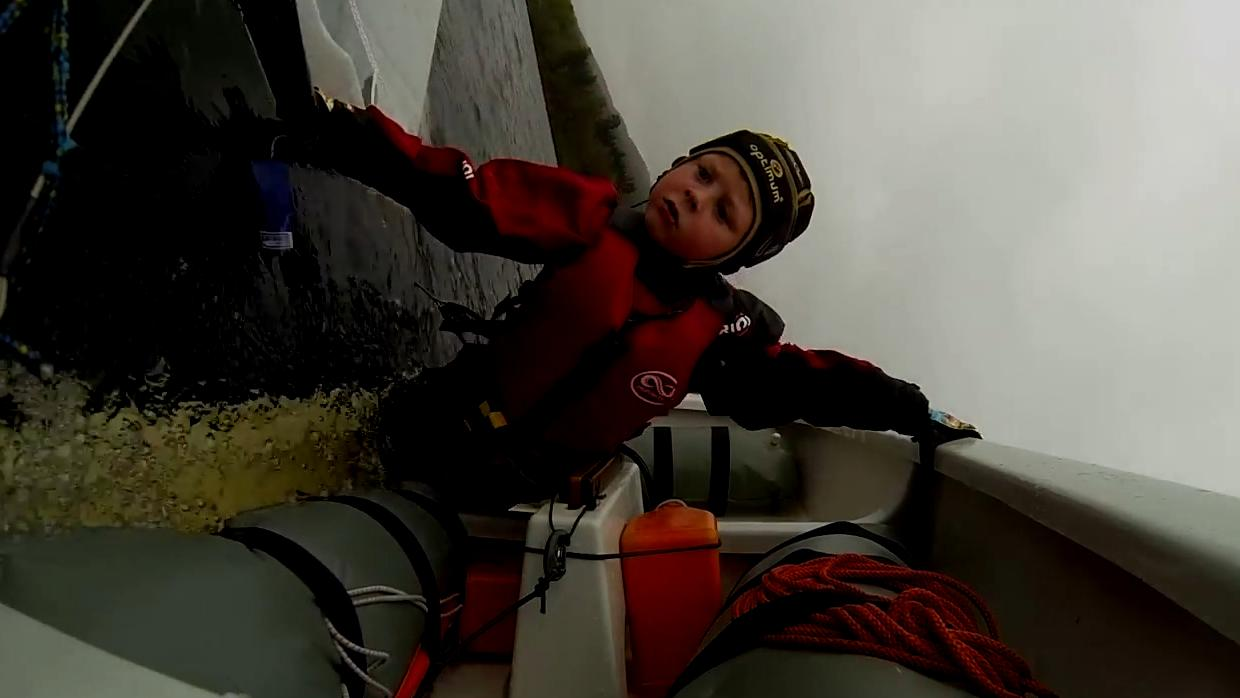boat: (0, 355, 1240, 698), (251, 0, 443, 151)
land: (520, 0, 653, 221)
person: (309, 101, 970, 510)
sea: (0, 0, 543, 535), (424, 0, 559, 167)
sky: (568, 0, 1240, 501)
